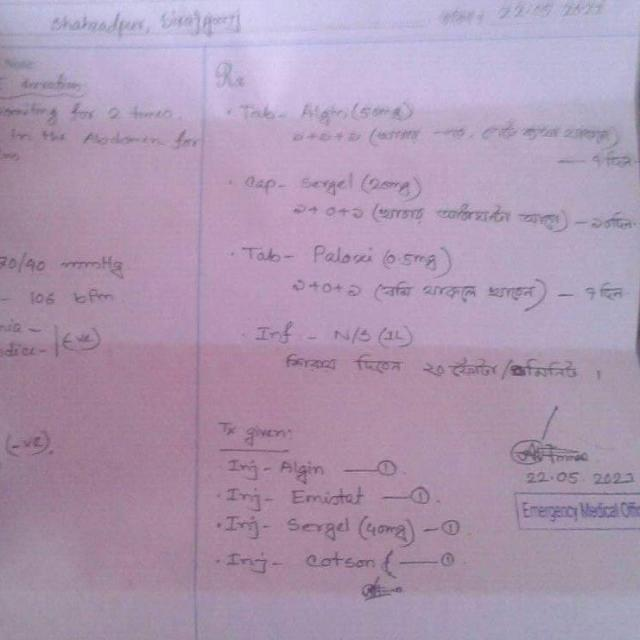Algin: (276, 452, 334, 487), (295, 102, 354, 128)
Cotson: (302, 549, 380, 573)
Emistat: (282, 483, 369, 512)
N-S: (328, 321, 378, 347)
Paloxi: (308, 237, 379, 273)
Sergel: (282, 513, 356, 543), (293, 170, 364, 199)
